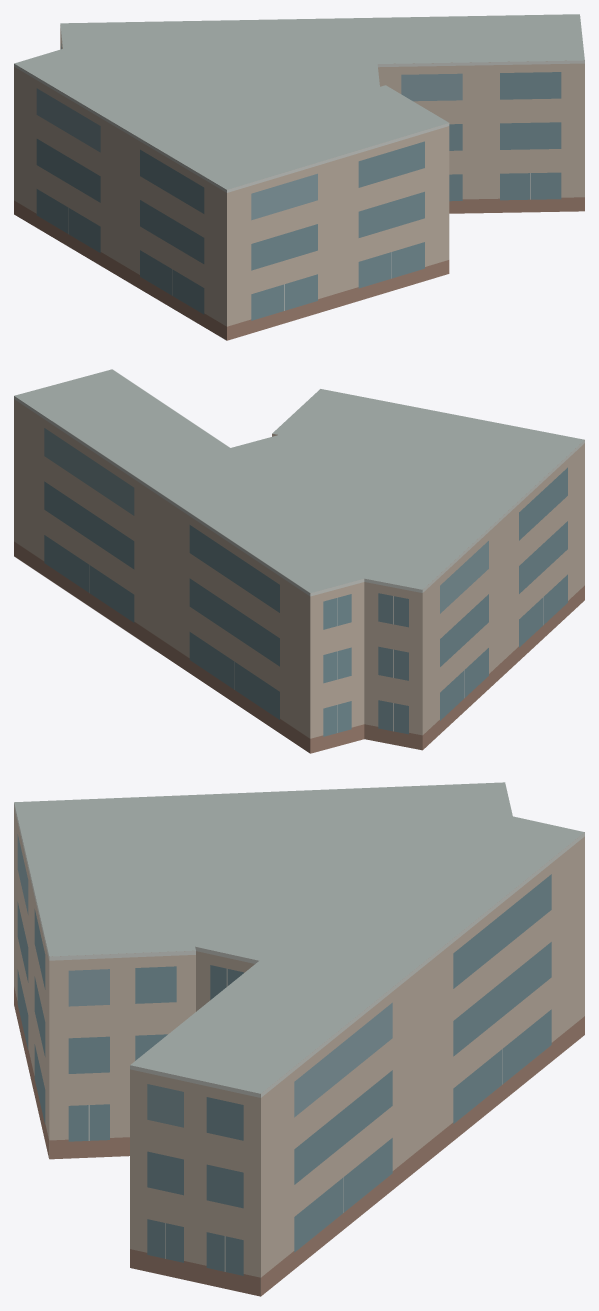
Rendered from survey-upis-32621938.glb.
3 renders of one model, top to bottom at view 1: azimuth 30°, elevation 25°; view 2: azimuth 150°, elevation 25°; view 3: azimuth 270°, elevation 25°, orthographic. The views are drawn at different scales.
Visible parts, largest first — view 1: survey-upis-32621938.tmp; view 2: survey-upis-32621938.tmp; view 3: survey-upis-32621938.tmp.
Boxes of the visible parts, x1=… form: survey-upis-32621938.tmp: x1=14, y1=14, x2=584, y2=340; survey-upis-32621938.tmp: x1=14, y1=369, x2=584, y2=753; survey-upis-32621938.tmp: x1=14, y1=782, x2=584, y2=1296.
Bounding box in the file's own units: 39.12 × 11.87 × 30.3.
